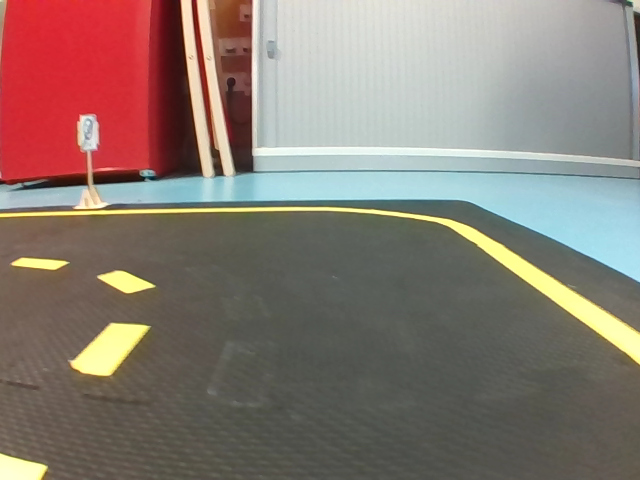no30: (80, 118, 96, 151)
